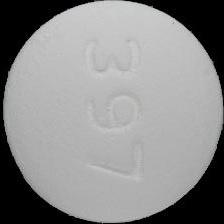21695-471: (0, 0, 224, 224)
